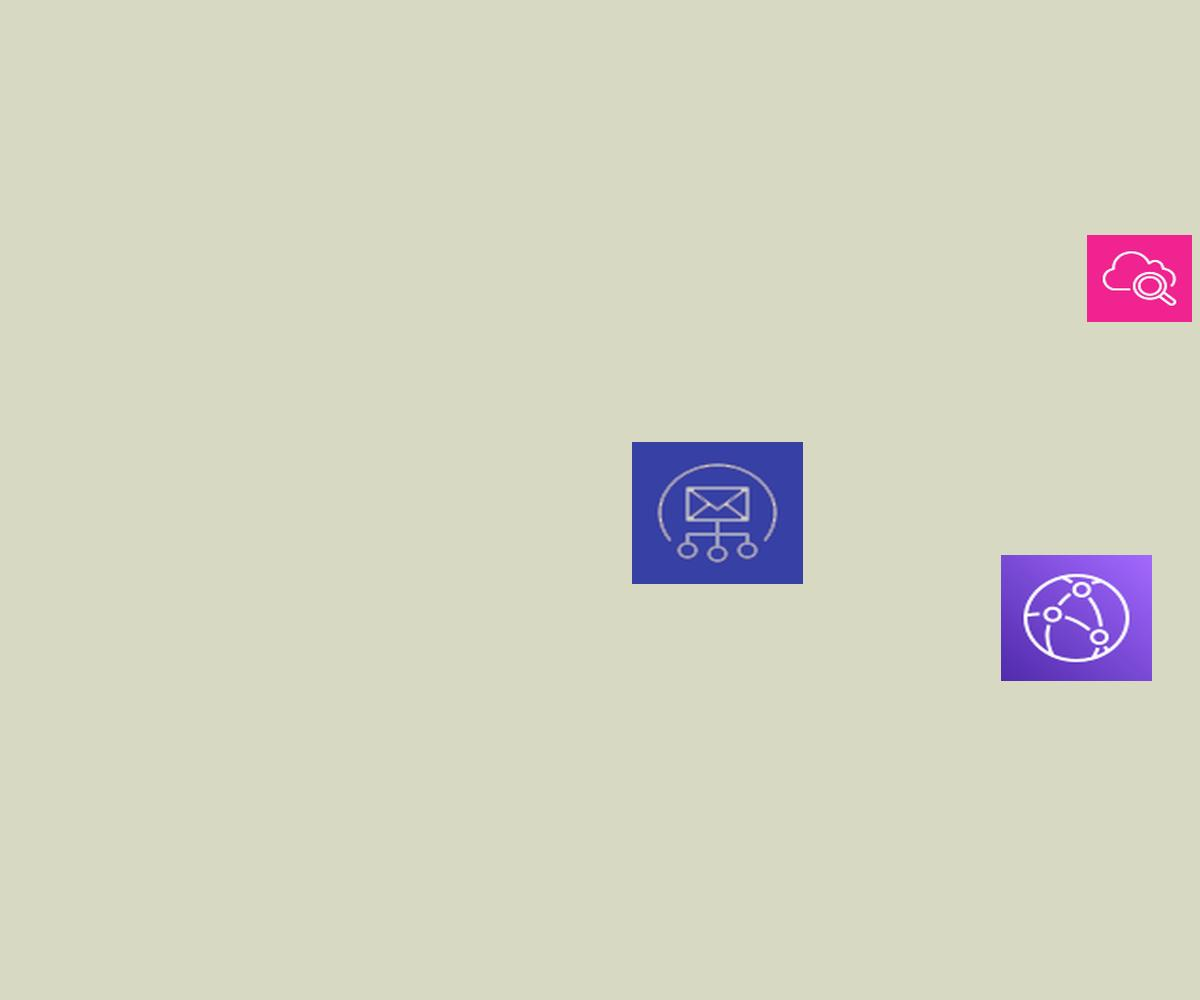AWS-CloudFront: (1001, 555, 1152, 681)
AWS-CloudWatch: (1087, 235, 1192, 322)
AWS-Simple-Email-Service: (632, 442, 803, 584)
